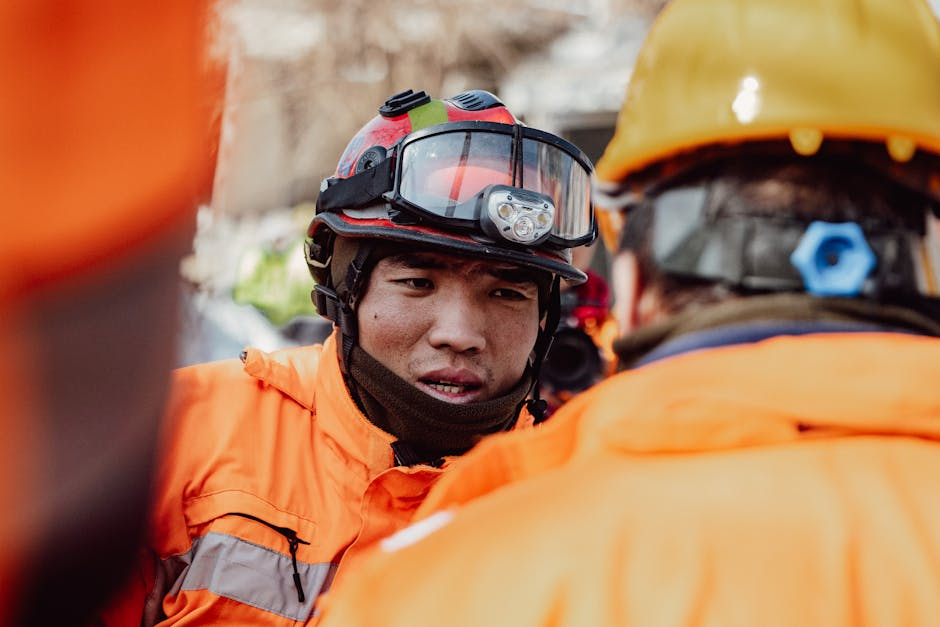safety_helmet: (590, 0, 938, 349), (302, 86, 600, 450), (592, 0, 939, 201), (303, 86, 599, 294)
